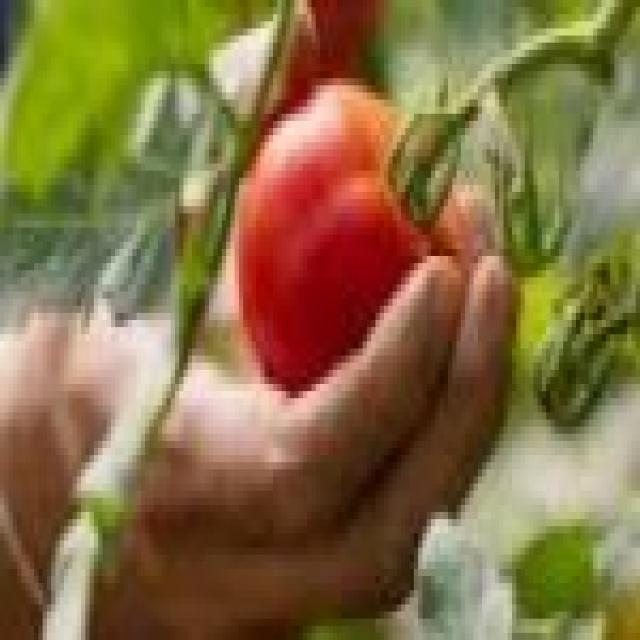Healthy: (248, 65, 445, 384)
